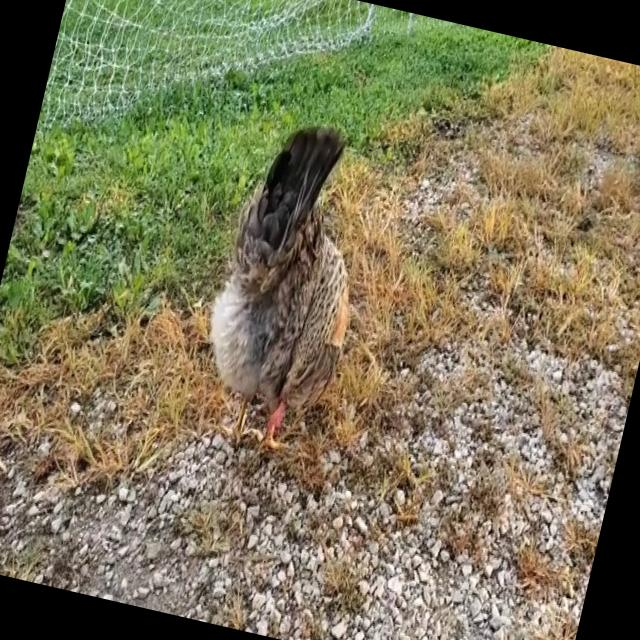self preening: (172, 101, 402, 470)
